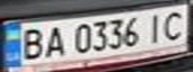0: (69, 20, 93, 54)
3: (90, 18, 112, 52), (106, 16, 127, 51)
6: (121, 14, 145, 47)
A: (39, 24, 69, 58)
B: (15, 25, 48, 61)
C: (157, 7, 190, 42)
I: (142, 10, 169, 44)
